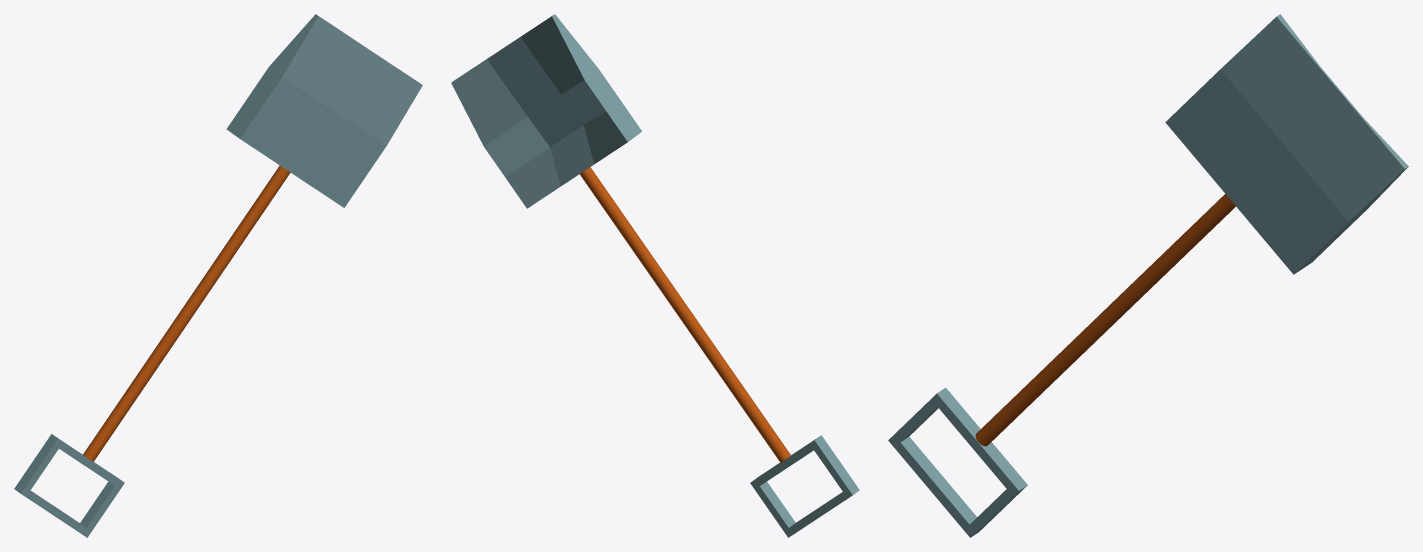
File: shovel.fbx
The picture shows the model from 3 angles, left to right: view 1: azimuth 30°, elevation 25°; view 2: azimuth 150°, elevation 25°; view 3: azimuth 330°, elevation 25°; orthographic projection. The views are drawn at different scales.
Parts seen in each view (by area): view 1: Cube; view 2: Cube; view 3: Cube.
Boxes of the visible parts, x1=… form: Cube: x1=14, y1=14, x2=422, y2=537; Cube: x1=451, y1=14, x2=859, y2=537; Cube: x1=888, y1=14, x2=1408, y2=537.
Bounding box in the file's own units: 82.82 × 90.71 × 5.81.
